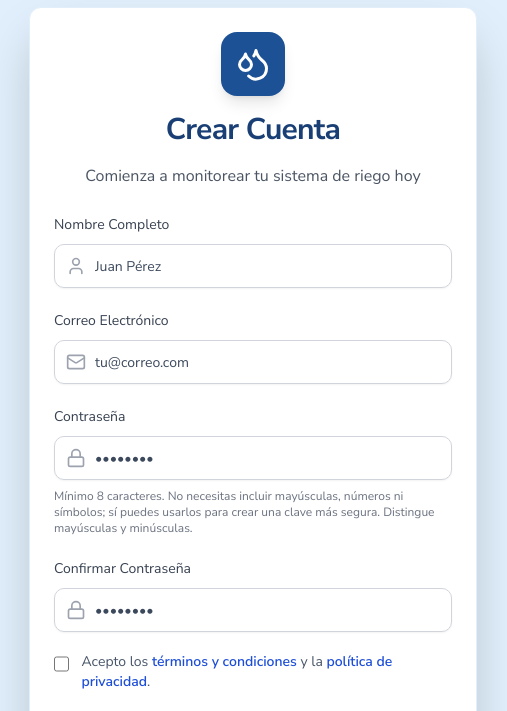
Signup page module › reports an email request failure after account creation without claiming delivery
The width and height of the screenshot is (507, 711).
Step 1. Type "Test User" into the field labelled "Nombre Completo" → (253, 266), box x1=54 y1=244 x2=452 y2=288
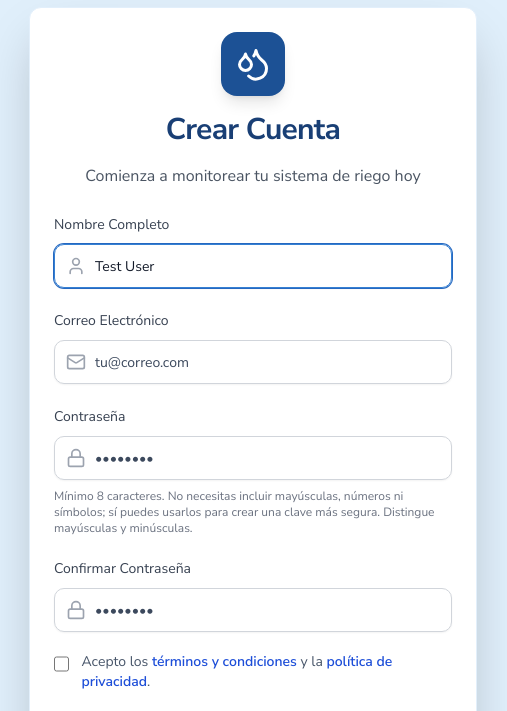
Step 2. Type "test@example.com" into the field labelled "Correo Electrónico" → (253, 362), box x1=54 y1=340 x2=452 y2=384
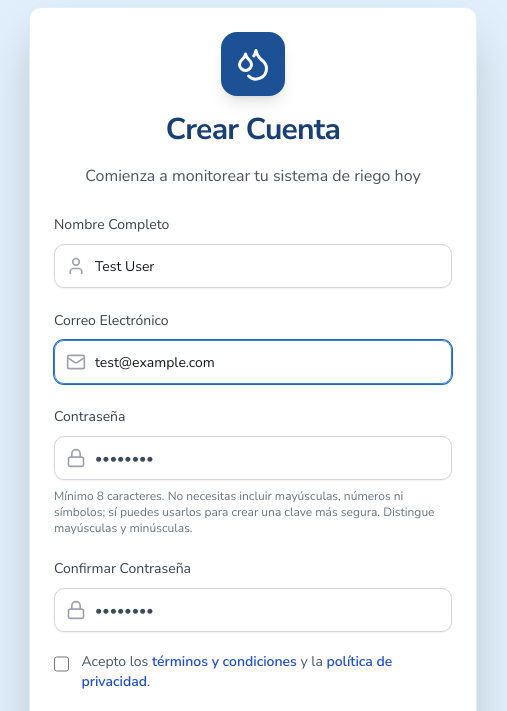
Step 3. Type "12345678" into the password field labelled "Contraseña" → (253, 458), box x1=54 y1=436 x2=452 y2=480
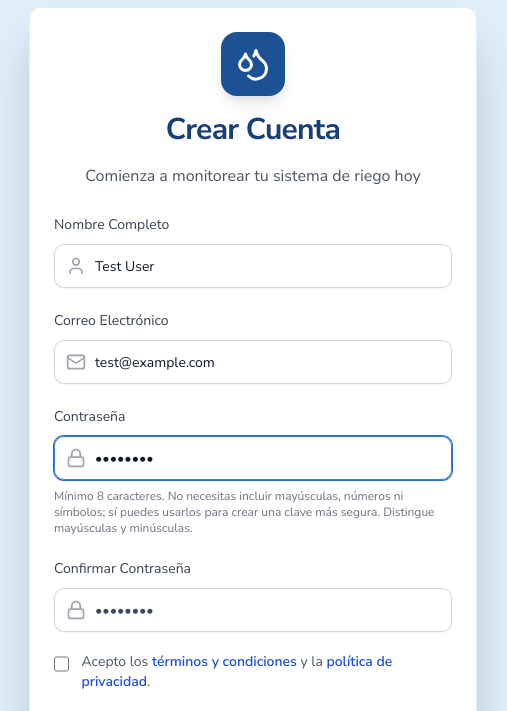
Step 4. Type "12345678" into the password field labelled "Confirmar Contraseña" → (253, 610), box x1=54 y1=588 x2=452 y2=632
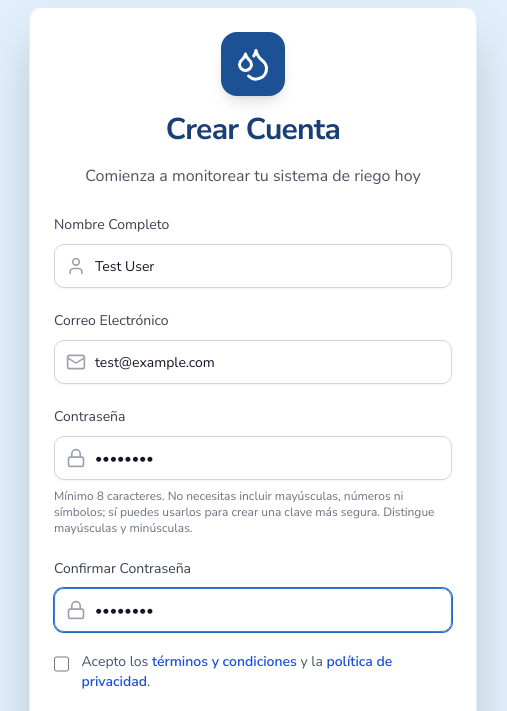
Step 5. Click the checkbox labelled "Acepto" → (62, 664), box x1=54 y1=656 x2=70 y2=672
(page scrolled)
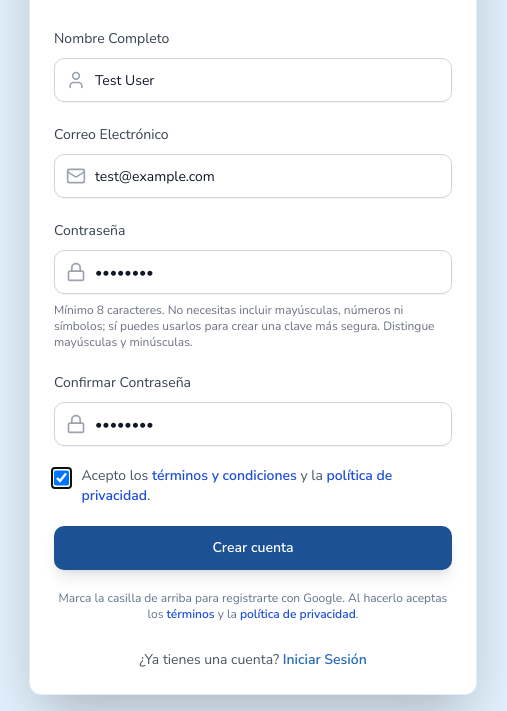
Step 6. Click the button "Crear cuenta" → (253, 548), box x1=54 y1=526 x2=452 y2=570
(page scrolled)
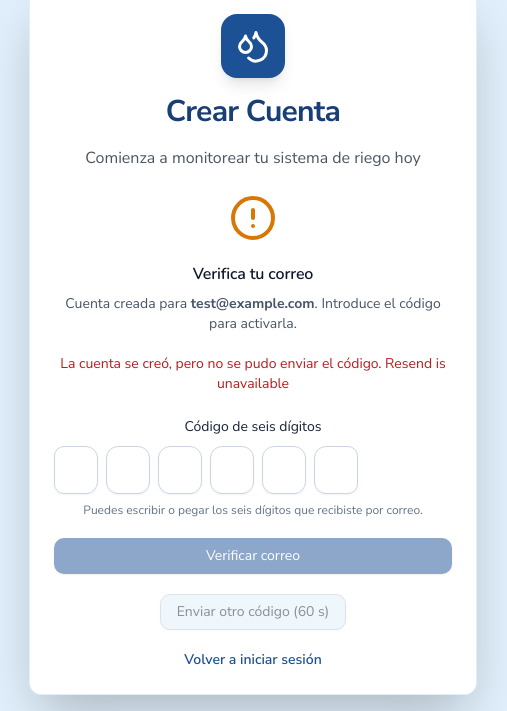
Check: the message shows "La cuenta se creó, pero no se pudo enviar el código", box x1=60 y1=354 x2=446 y2=393
